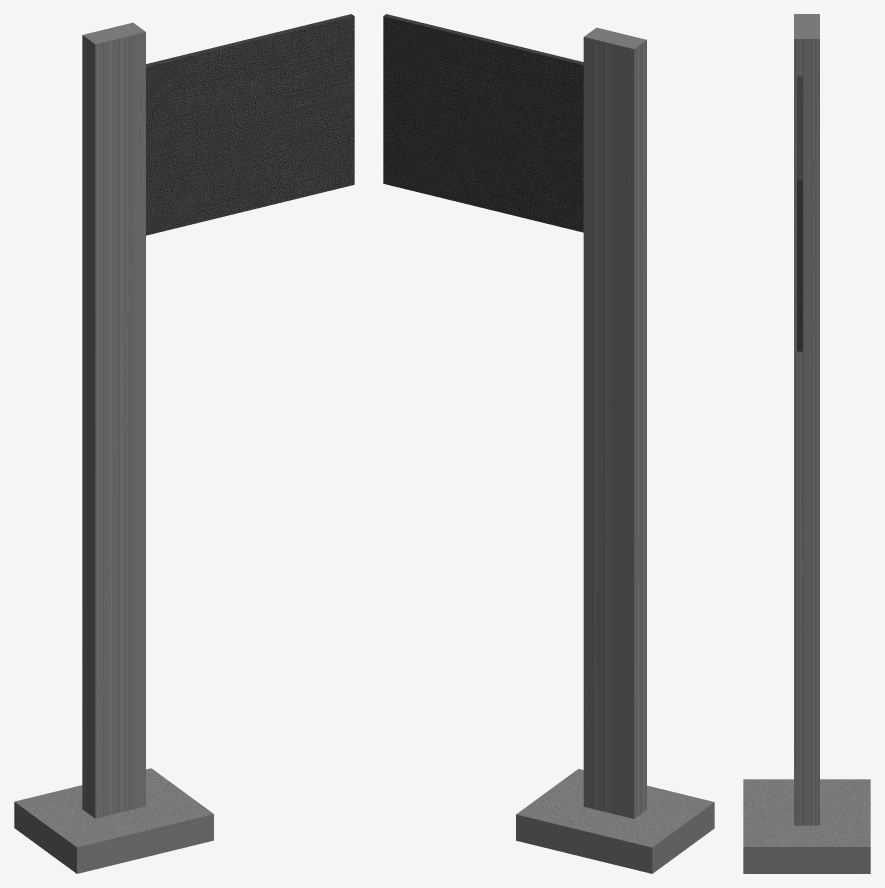
The model's file is hatahata.fbx.
The picture shows the model from 3 angles, left to right: view 1: azimuth 30°, elevation 25°; view 2: azimuth 150°, elevation 25°; view 3: azimuth 270°, elevation 25°; orthographic projection. The views are drawn at different scales.
Parts seen in each view (by area): view 1: Box003, Box002; view 2: Box003, Box002; view 3: Box003, Box002.
Boxes of the visible parts, x1,y1,x2,y2 form: Box003: [14, 22, 213, 873]; Box002: [146, 14, 354, 235]; Box003: [516, 27, 714, 873]; Box002: [383, 14, 583, 232]; Box003: [743, 14, 870, 873]; Box002: [797, 76, 802, 351].
Size of the model in its own units: 42.14 by 15.05 by 106.
Materials: 2 (2 with a texture image).
